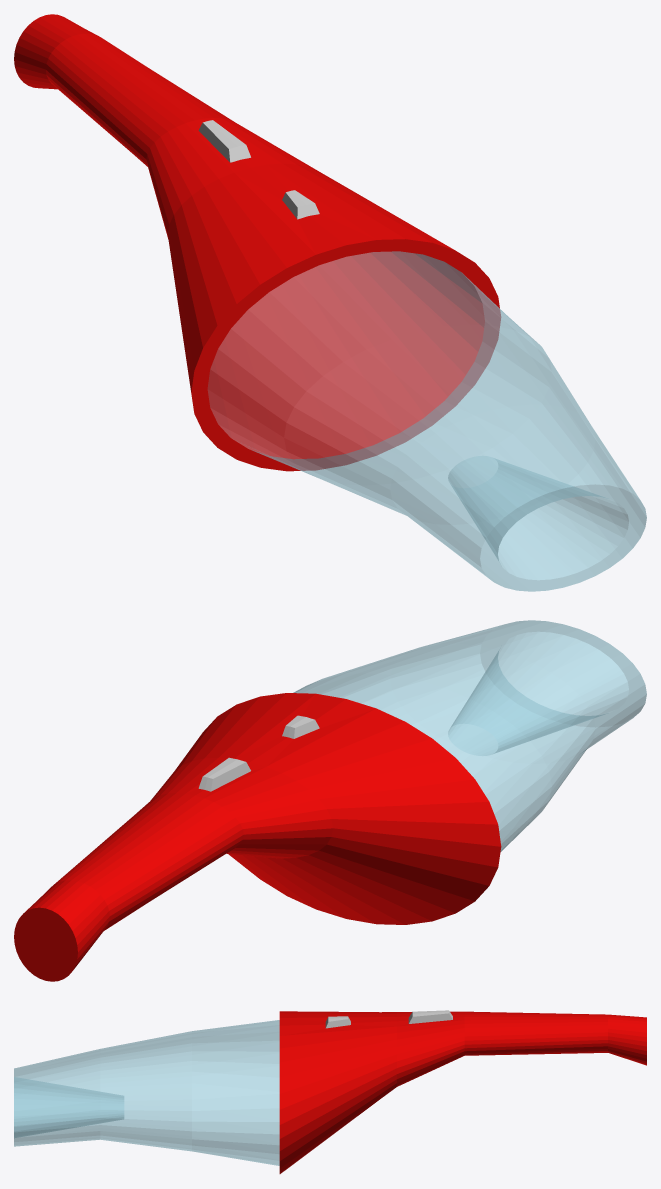
The model's file is dustbuster.fbx.
The picture shows the model from 3 angles, top to bottom: view 1: azimuth 30°, elevation 25°; view 2: azimuth 150°, elevation 25°; view 3: azimuth 270°, elevation 25°; orthographic projection. The views are drawn at different scales.
Visible parts, largest first — view 1: Circle; view 2: Circle; view 3: Circle.
Part boxes in pixels (left/top/right/bottom): Circle: left=14, top=14, right=646, bottom=591; Circle: left=14, top=620, right=646, bottom=981; Circle: left=14, top=1010, right=646, bottom=1173.
Size of the model in its own units: 162 by 121 by 468.
